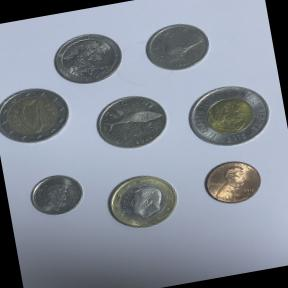coin: (178, 70, 284, 160), (95, 163, 190, 239), (85, 84, 176, 161), (0, 79, 76, 152), (47, 25, 129, 91), (196, 151, 273, 214), (22, 166, 92, 225)
